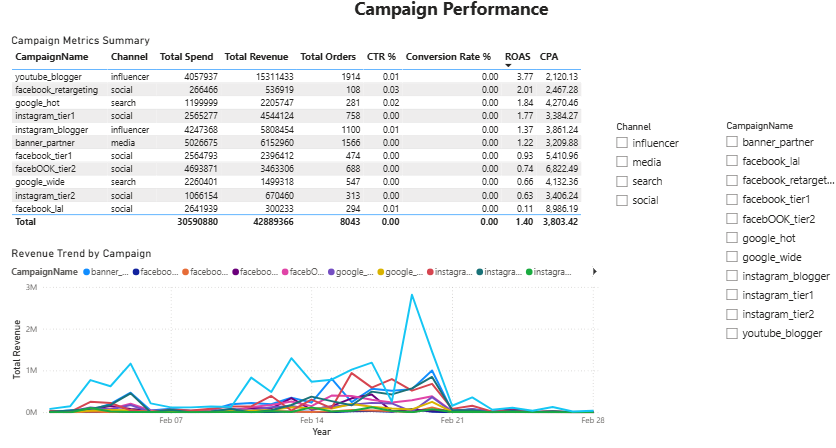

Layout of this report page (visuals, bound fields, positions):
{"tool":"powerbi","page":{"name":"Campaign Performance","canvas":[1280,720],"ordinal":2},"visuals":[{"type":"tableEx","title":"Campaign Metrics Summary","fields":{"Values":["MarketingData.CampaignName","MarketingData.Channel","MarketingData.Total Spend","MarketingData.Total Revenue","MarketingData.Total Orders","MarketingData.CTR %","MarketingData.Conversion Rate %","MarketingData.ROAS","MarketingData.CPA"]},"box":[0,36,874.8,303],"z":0},{"type":"lineChart","title":"Revenue Trend by Campaign","fields":{"Y":["MarketingData.Total Revenue"],"Series":["MarketingData.CampaignName"],"Category":["MarketingData.Date.Variation.Date Hierarchy.Year","MarketingData.Date.Variation.Date Hierarchy.Quarter","MarketingData.Date.Variation.Date Hierarchy.Month","MarketingData.Date.Variation.Date Hierarchy.Day"]},"box":[0,359.8,914.6,303],"z":1},{"type":"slicer","fields":{"Values":["MarketingData.Channel"]},"box":[931.6,189.3,145.8,174.2],"z":2},{"type":"slicer","fields":{"Values":["MarketingData.CampaignName"]},"box":[1098.2,187.5,181.8,352.2],"z":3}]}

Visuals, with their boxes on the page's 1280x720 design canvas (x1, y1, x2, y2). These are canvas units, not pixel positions in the 836x448 screenshot, which may show the page scaled, cropped or inside an application window:
"Campaign Metrics Summary" tableEx: {"x1": 0, "y1": 36, "x2": 875, "y2": 339}
"Revenue Trend by Campaign" lineChart: {"x1": 0, "y1": 360, "x2": 915, "y2": 663}
slicer - MarketingData.Channel: {"x1": 932, "y1": 189, "x2": 1077, "y2": 364}
slicer - MarketingData.CampaignName: {"x1": 1098, "y1": 188, "x2": 1280, "y2": 540}
